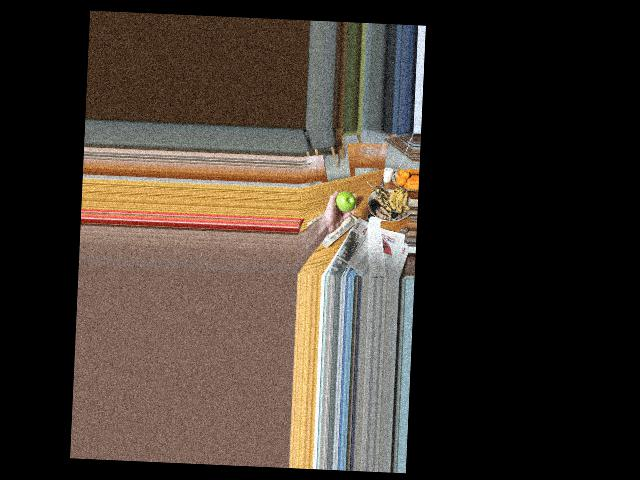apple: (335, 189, 355, 213)
